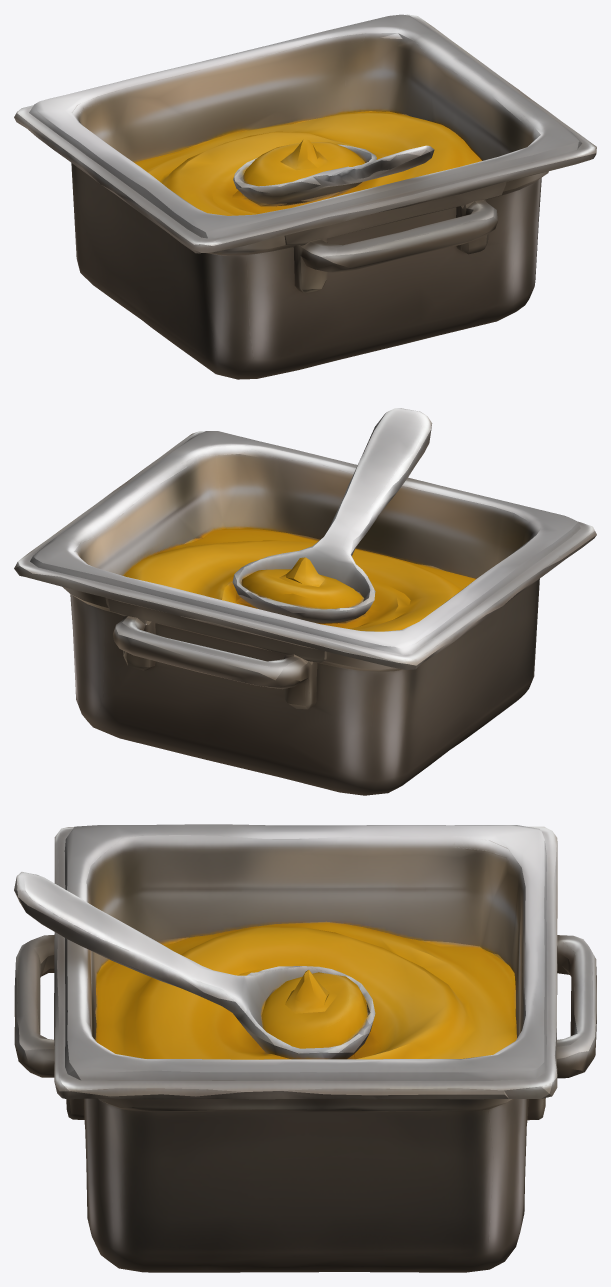
Rendered from Mustard.glb.
3 views of the same model, one above another, from view 1: azimuth 30°, elevation 25°; view 2: azimuth 150°, elevation 25°; view 3: azimuth 270°, elevation 25° (orthographic). The views are drawn at different scales.
Parts seen in each view (by area): view 1: geometry_0; view 2: geometry_0; view 3: geometry_0.
Part boxes in pixels (x1,y1,x2,y2): geometry_0: (14,14,596,379); geometry_0: (14,408,596,795); geometry_0: (14,824,596,1272).
Bounding box in the file's own units: 0.15 × 0.08 × 0.14.
1 material, 1 textured.
